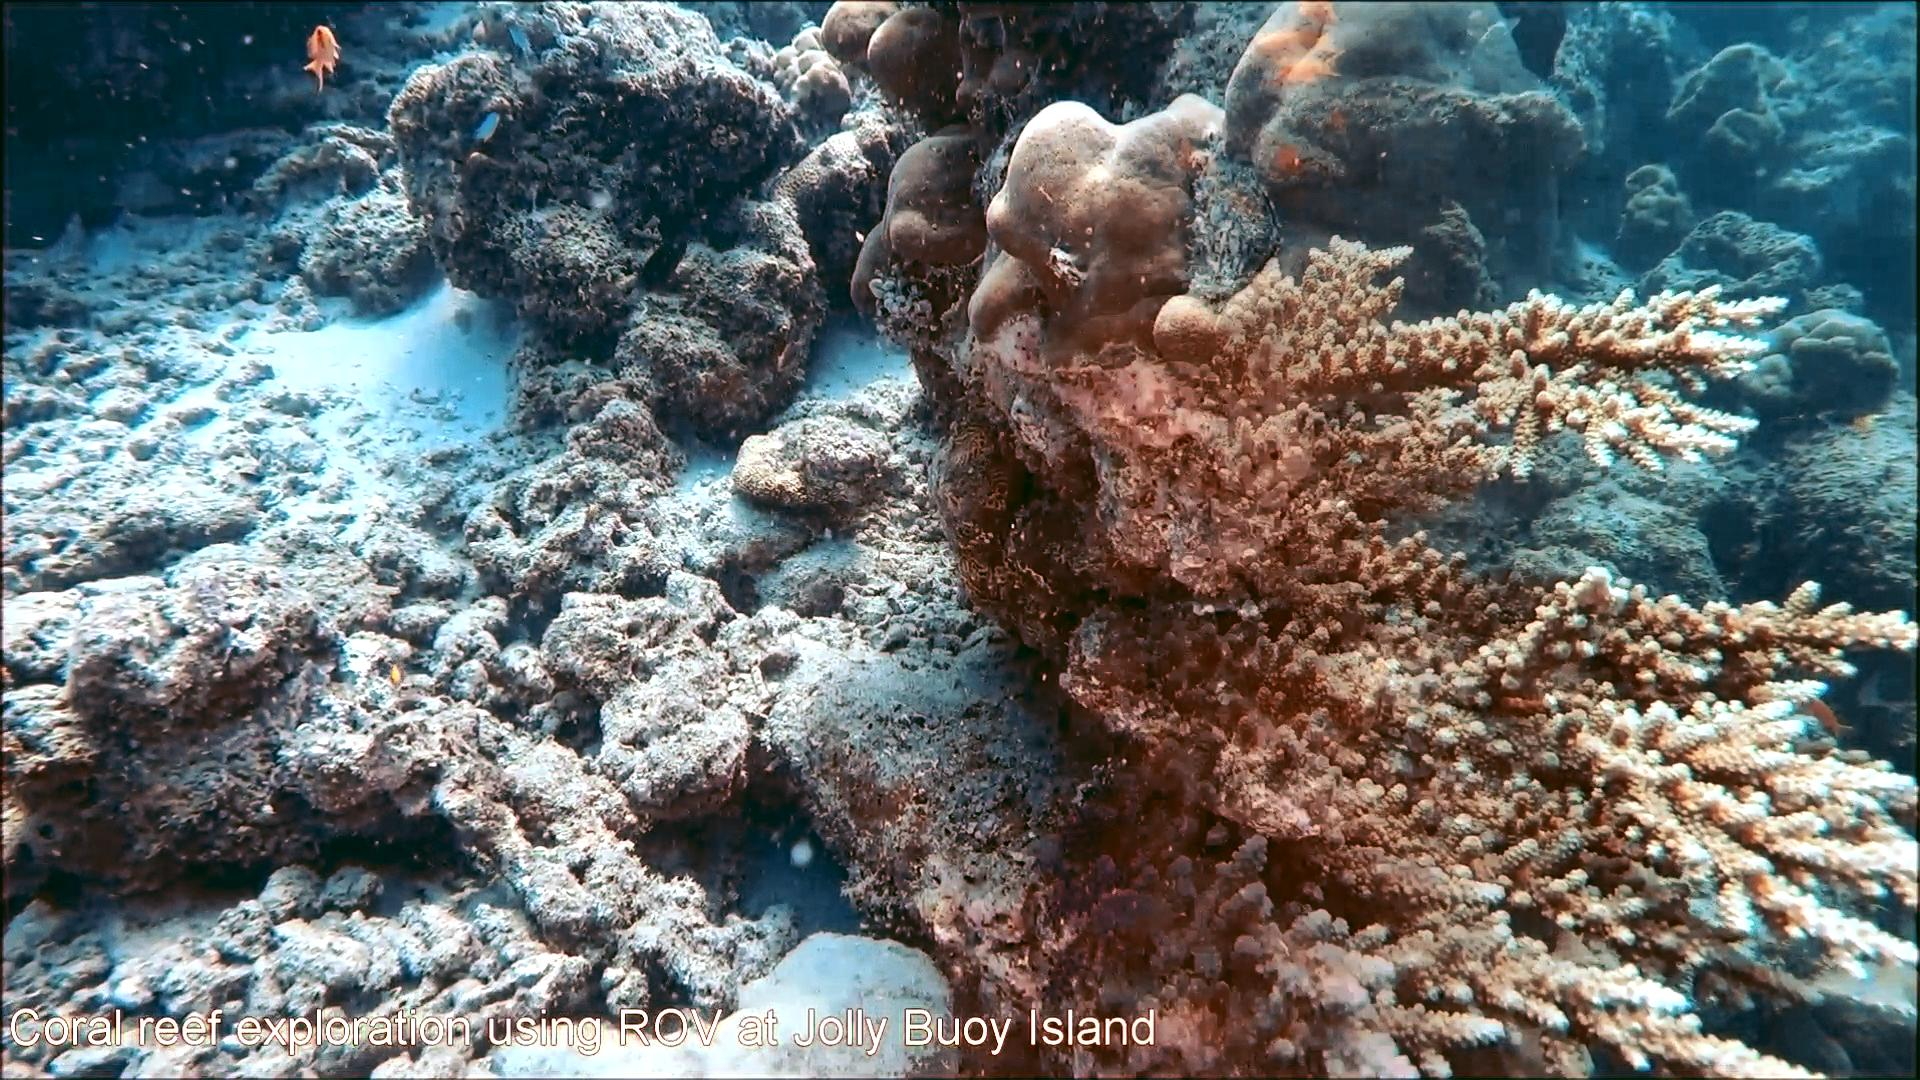Porites-Porites pukoensis: (496, 922, 965, 1080)
